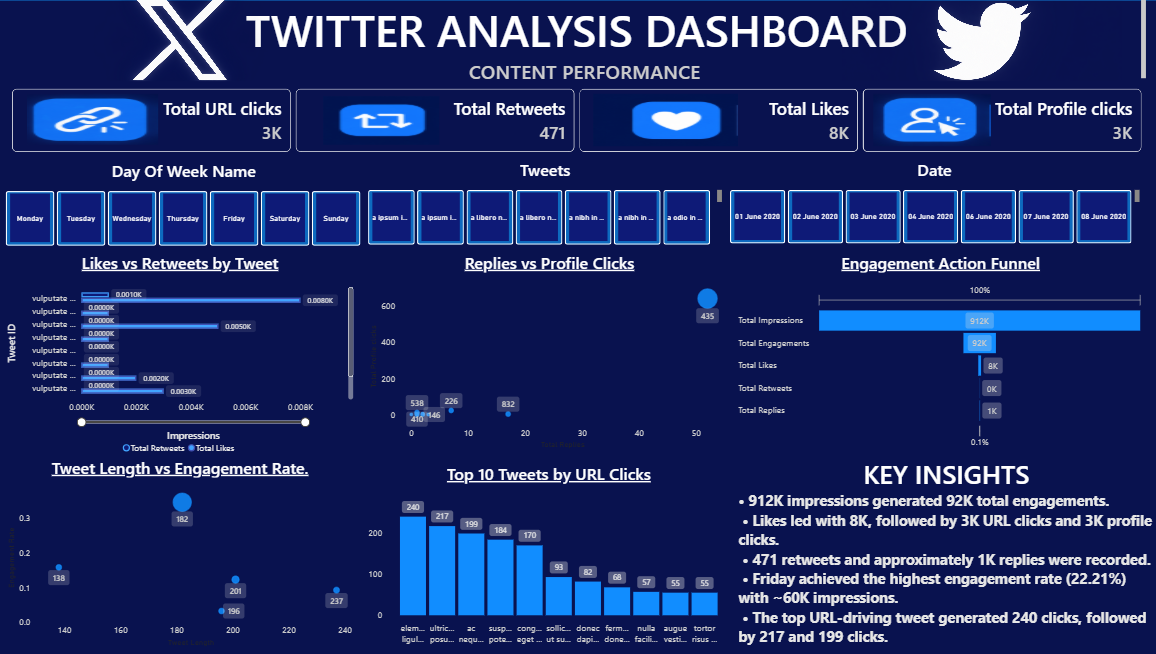

This screenshot's page, from the dashboard's own definition file:
{"tool":"powerbi","page":{"name":"Dashboard 3","canvas":[1920,1080],"ordinal":2},"visuals":[{"type":"shape","box":[10.9,0,1909.2,1080.4],"z":0},{"type":"textbox","box":[32.6,0,1867.6,133.9],"z":1000},{"type":"cardVisual","fields":{"Data":["Twitter Measure Table.Total URL clicks","Twitter Measure Table.Total Retweets","Twitter Measure Table.Total Likes","Twitter Measure Table.Total Profile clicks"]},"box":[32,146,1862,104],"z":2000},{"type":"image","box":[166.5,0,298.6,133.9],"z":3000},{"type":"image","box":[1398.9,0,461.5,133.9],"z":4000},{"type":"advancedSlicerVisual","title":"Day Of Week Name","fields":{"Values":["twitter_analysis_cleaned.day_of_week"]},"box":[22.6,263.5,586.6,142],"z":5000},{"type":"image","box":[990.1,154.4,238.8,86.4],"z":6000},{"type":"image","box":[545.5,158.5,191.4,80.3],"z":7000},{"type":"image","box":[57.6,154.4,216.1,84.4],"z":8000},{"type":"image","box":[1451.1,154.4,193.5,86.4],"z":10000},{"type":"clusteredBarChart","title":"Likes vs Retweets by Tweet","fields":{"Category":["twitter_analysis_cleaned.Tweet"],"Y":["Twitter Measure Table.Total Retweets","Twitter Measure Table.Total Likes"]},"box":[24,414,570,338],"z":11000},{"type":"advancedSlicerVisual","title":"Tweets","fields":{"Values":["twitter_analysis_cleaned.Tweet"]},"box":[619.6,261.4,582.5,142],"z":12000},{"type":"advancedSlicerVisual","title":"Date","fields":{"Values":["twitter_analysis_cleaned.date"]},"box":[1214.4,261.4,675.1,140],"z":13000},{"type":"scatterChart","title":"Tweet Length vs Engagement Rate.","fields":{"X":["twitter_analysis_cleaned.Tweet Length"],"Y":["Twitter Measure Table.Engagement Rate"],"Size":["Twitter Measure Table.Total Impressions"]},"box":[24.7,751.3,570.2,312.9],"z":14000},{"type":"clusteredColumnChart","title":"Top 10 Tweets by URL Clicks","fields":{"Category":["twitter_analysis_cleaned.Tweet"],"Y":["Twitter Measure Table.Total URL clicks"]},"box":[619.6,761.6,594.9,302.6],"z":15000},{"type":"funnel","title":"Engagement Action Funnel","fields":{"Y":["Twitter Measure Table.Total Impressions","Twitter Measure Table.Total Engagements","Twitter Measure Table.Total Likes","Twitter Measure Table.Total Retweets","Twitter Measure Table.Total Replies"]},"box":[1228.8,413.7,666.9,325.2],"z":16000},{"type":"scatterChart","title":"Replies vs Profile Clicks","fields":{"X":["Twitter Measure Table.Total Replies"],"Y":["Twitter Measure Table.Total Profile clicks"],"Size":["Twitter Measure Table.Total Impressions"],"Category":["twitter_analysis_cleaned.Tweet ID"]},"box":[621.6,413.7,592.8,325.2],"z":17000},{"type":"textbox","box":[1228.8,751.3,685.4,325.2],"z":18000}]}

Visuals, with their boxes in screenshot pixels (x1, y1, x2, y2), scaled from the page's 1920x1080 canvas onto the 1156x654 screenshot:
shape: x1=7 y1=0 x2=1155 y2=653
textbox: x1=20 y1=0 x2=1144 y2=81
cardVisual - Twitter Measure Table.Total URL clicks x Twitter Measure Table.Total Retweets: x1=19 y1=88 x2=1140 y2=151
image: x1=100 y1=0 x2=280 y2=81
image: x1=842 y1=0 x2=1120 y2=81
"Day Of Week Name" advancedSlicerVisual: x1=14 y1=160 x2=367 y2=246
image: x1=596 y1=93 x2=740 y2=146
image: x1=328 y1=96 x2=444 y2=145
image: x1=35 y1=93 x2=165 y2=145
image: x1=874 y1=93 x2=990 y2=146
"Likes vs Retweets by Tweet" clusteredBarChart: x1=14 y1=251 x2=358 y2=455
"Tweets" advancedSlicerVisual: x1=373 y1=158 x2=724 y2=244
"Date" advancedSlicerVisual: x1=731 y1=158 x2=1138 y2=243
"Tweet Length vs Engagement Rate." scatterChart: x1=15 y1=455 x2=358 y2=644
"Top 10 Tweets by URL Clicks" clusteredColumnChart: x1=373 y1=461 x2=731 y2=644
"Engagement Action Funnel" funnel: x1=740 y1=251 x2=1141 y2=447
"Replies vs Profile Clicks" scatterChart: x1=374 y1=251 x2=731 y2=447
textbox: x1=740 y1=455 x2=1153 y2=652
